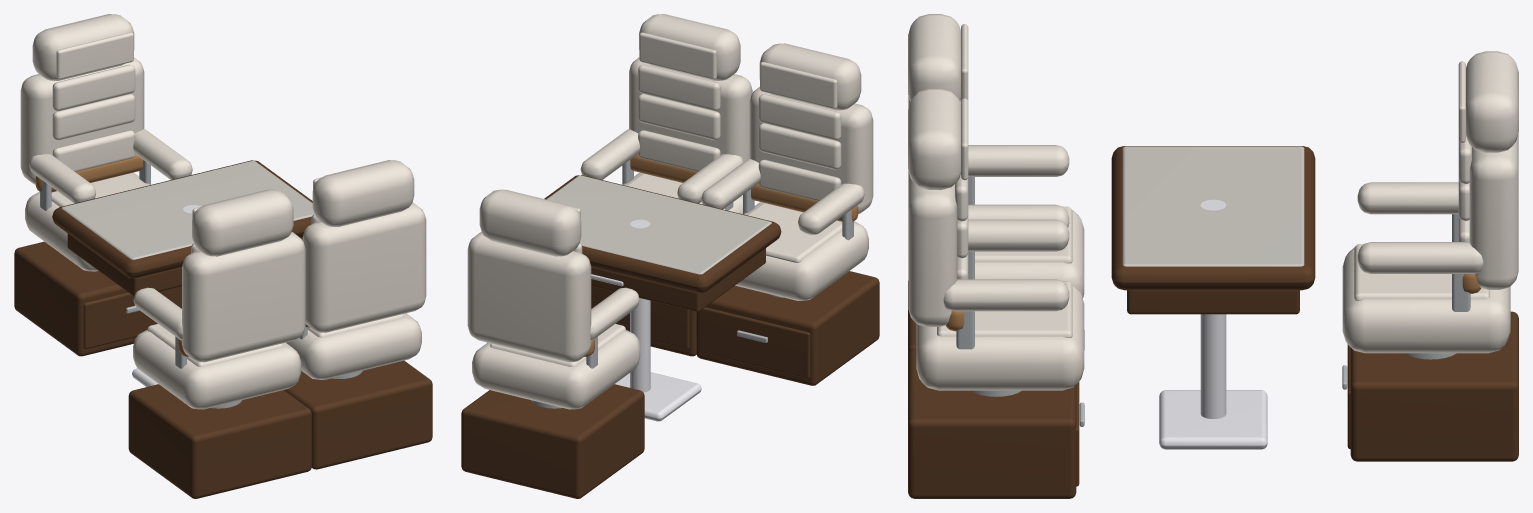
Rendered from dinette.glb.
3 views of the same model, side by side, from view 1: azimuth 30°, elevation 25°; view 2: azimuth 150°, elevation 25°; view 3: azimuth 270°, elevation 25° (orthographic). The views are drawn at different scales.
Visible parts, largest first — view 1: dinette_chair_aft_off, dinette_chair_aft_kerb, dinette_chair_fwd, dinette_table; view 2: dinette_chair_fwd, dinette_chair_aft_off, dinette_chair_aft_kerb, dinette_table; view 3: dinette_chair_fwd, dinette_chair_aft_kerb, dinette_table, dinette_chair_aft_off.
Boxes of the visible parts, x1,y1,x2,y2 form: dinette_chair_aft_off: (128,189,311,498); dinette_chair_aft_kerb: (284,160,432,469); dinette_chair_fwd: (14,14,192,356); dinette_table: (52,160,314,386); dinette_chair_fwd: (461,189,644,498); dinette_chair_aft_off: (696,43,879,385); dinette_chair_aft_kerb: (580,14,752,356); dinette_table: (544,175,781,421); dinette_chair_fwd: (1342,51,1518,461); dinette_chair_aft_kerb: (908,88,1084,498); dinette_table: (1111,146,1315,449); dinette_chair_aft_off: (908,14,1084,354).
Size of the model in its own units: 1.04 by 1.15 by 1.8.
